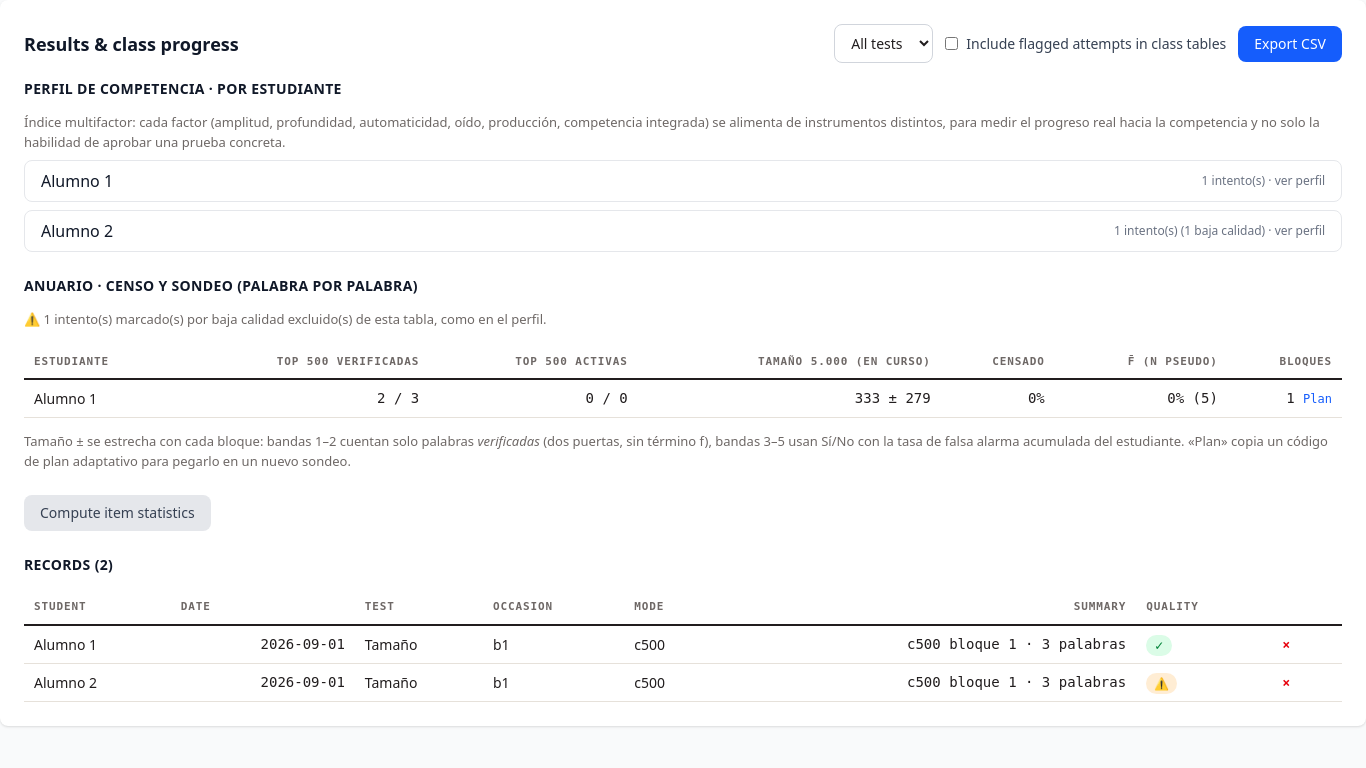
Test: VocabResultsPanel · Anuario from the census endpoint › builds the ledger from getCensusResults, leaving flagged blocks out unless included
Check: the text "Alumno 1" in the row of "333" is shown, box [34,389,97,408]
Check: the text "2 / 3" is shown, box [174,379,429,418]
Click the checkbox labelled "Include flagged attempts in class tables" at (952, 44), box [945,37,958,50]
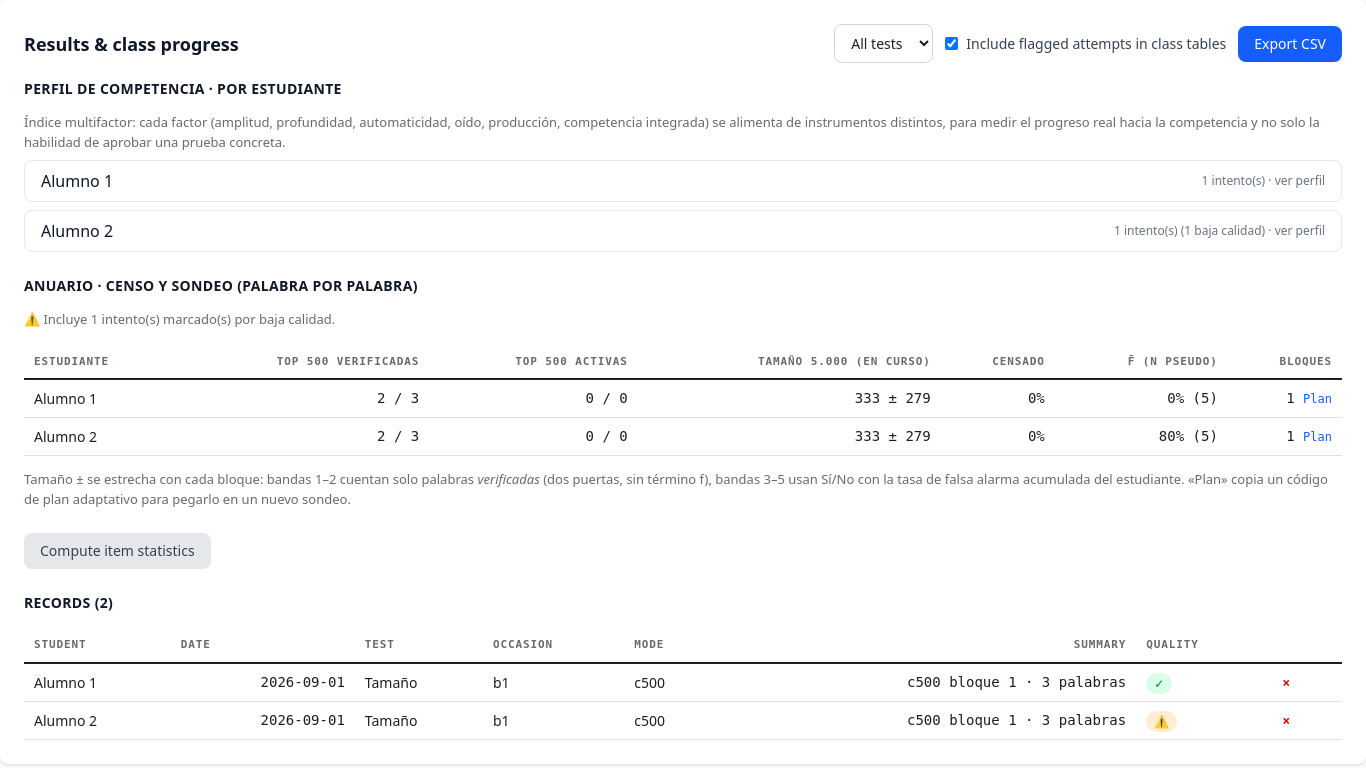
Check: the text "Alumno 2" in the row of "80%" is shown, box [34,427,97,446]
